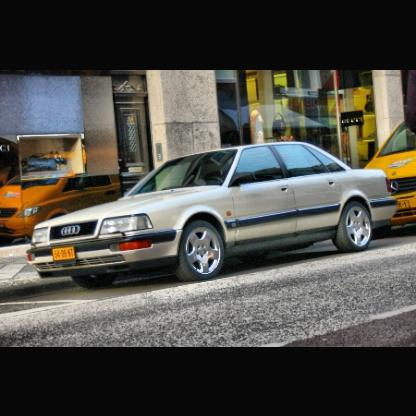Audi V8 Sedan 1994: (31, 143, 399, 280)
